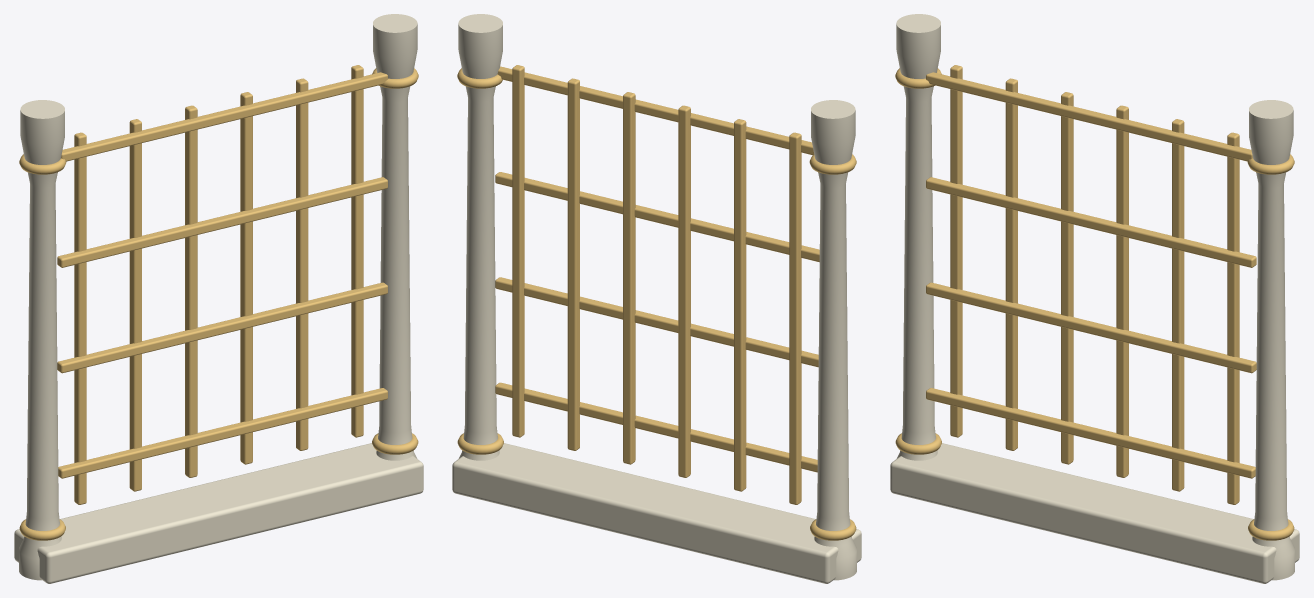
Rendered from royal-court-and-throne-palace-garden-screen-3ee3eb7f__29426.glb.
3 renders of one model, left to right at view 1: azimuth 30°, elevation 25°; view 2: azimuth 150°, elevation 25°; view 3: azimuth 330°, elevation 25°, orthographic.
Parts seen in each view (by area): view 1: garden-screen; view 2: garden-screen; view 3: garden-screen.
Part boxes in pixels (x1,y1,x2,y2): garden-screen: [14, 14, 423, 583]; garden-screen: [452, 14, 861, 583]; garden-screen: [890, 14, 1299, 583].
Bounding box in the file's own units: 1.56 × 1.75 × 0.2399.
